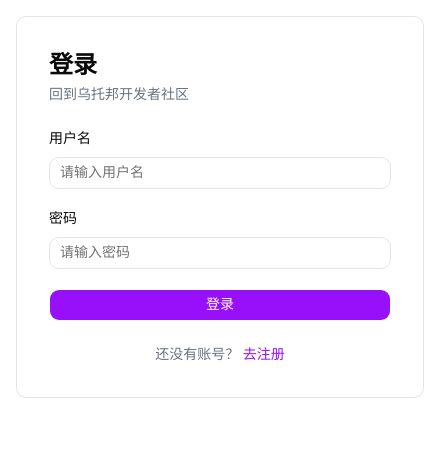
Test case: 登录页面 › 登录失败时，行内显示后端返回的错误信息
The width and height of the screenshot is (441, 455).
In the field with placeholder "请输入用户名": (220, 173) [49,157,391,189], type "xiaoming"
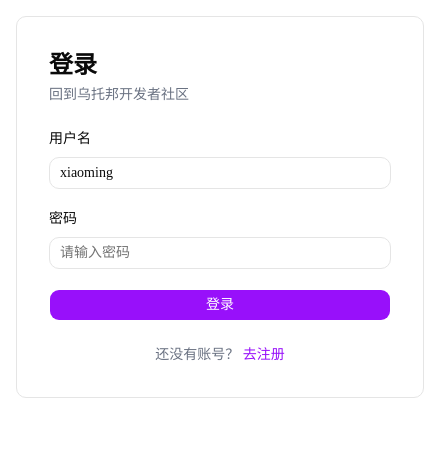
In the password field with placeholder "请输入密码": (220, 253) [49,237,391,269], type "wrong"
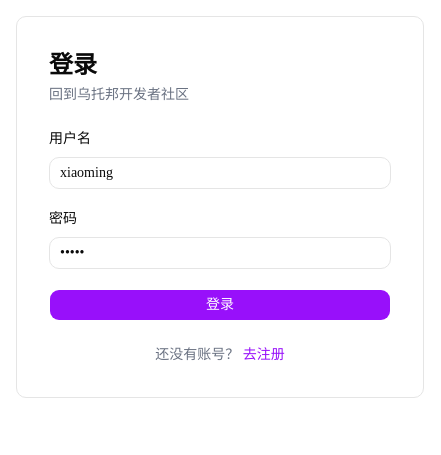
Click the button "登录": (220, 305) [49,289,391,321]
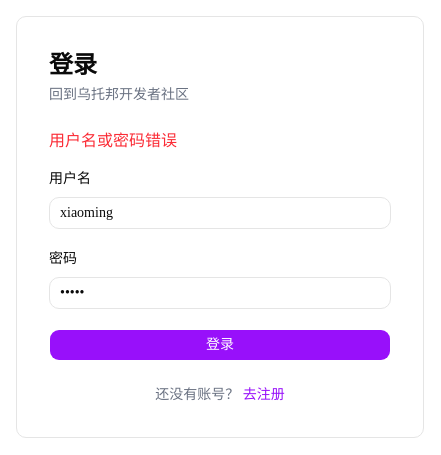
Check: the text "用户名或密码错误" is shown, box [49,132,177,149]
